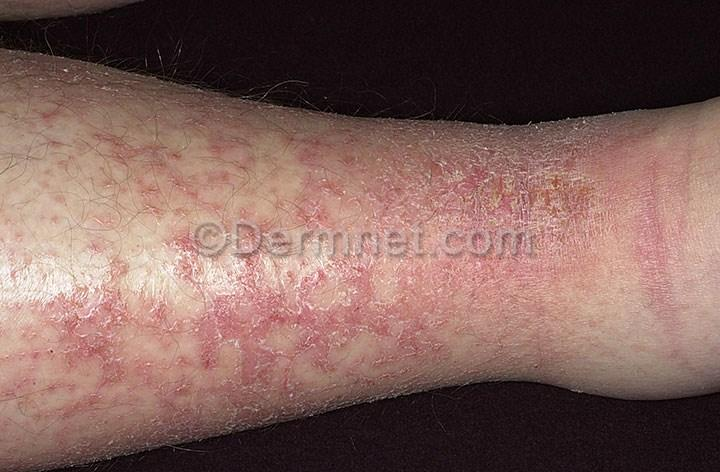Eczema: (216, 110, 635, 229), (9, 285, 234, 442), (223, 264, 415, 402), (420, 255, 582, 385), (89, 87, 224, 237), (623, 156, 709, 378), (0, 89, 89, 246), (0, 237, 213, 291)
